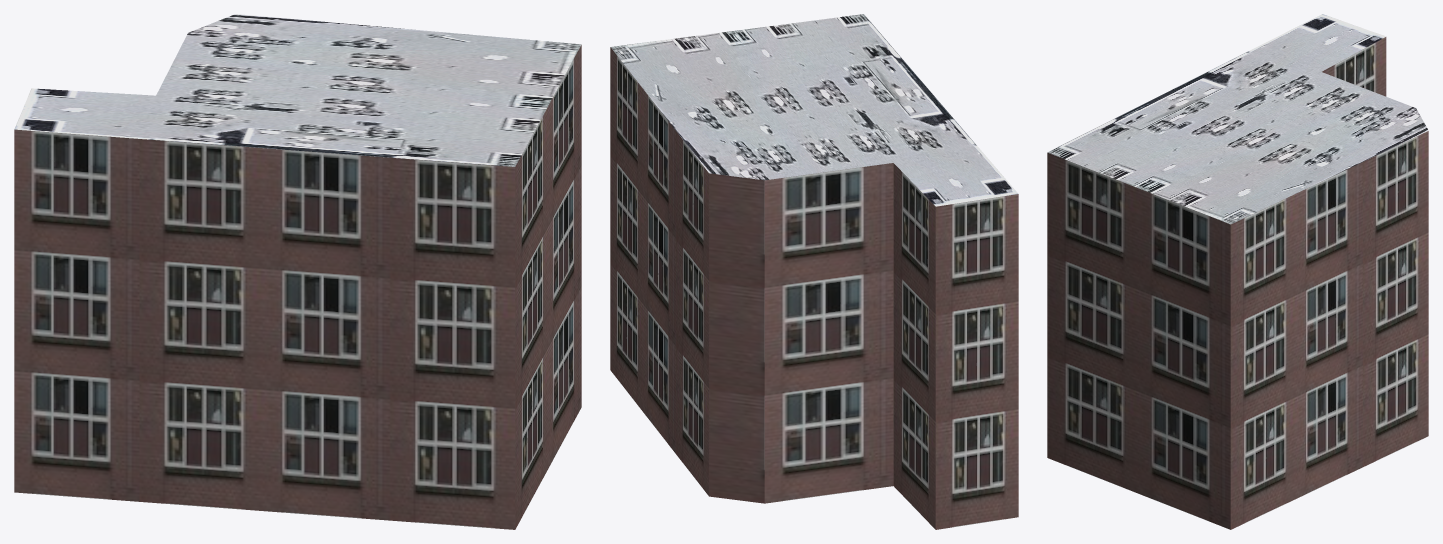
The model's file is ResTex__4361.fbx.
3 renders of one model, left to right at view 1: azimuth 30°, elevation 25°; view 2: azimuth 150°, elevation 25°; view 3: azimuth 270°, elevation 25°, orthographic. The views are drawn at different scales.
Visible parts, largest first — view 1: CityEngineMaterial_12_m, CityEngineMaterial_4_m; view 2: CityEngineMaterial_12_m, CityEngineMaterial_4_m; view 3: CityEngineMaterial_12_m, CityEngineMaterial_4_m.
Part boxes in pixels (x1=…): CityEngineMaterial_12_m: x1=14, y1=45, x2=581, y2=529; CityEngineMaterial_4_m: x1=14, y1=14, x2=581, y2=166; CityEngineMaterial_12_m: x1=610, y1=47, x2=1018, y2=529; CityEngineMaterial_4_m: x1=610, y1=14, x2=1018, y2=206; CityEngineMaterial_12_m: x1=1047, y1=37, x2=1428, y2=529; CityEngineMaterial_4_m: x1=1047, y1=14, x2=1428, y2=224.
Bounding box in the file's own units: 13.31 × 9 × 10.19.
Materials: 2 (2 with a texture image).
